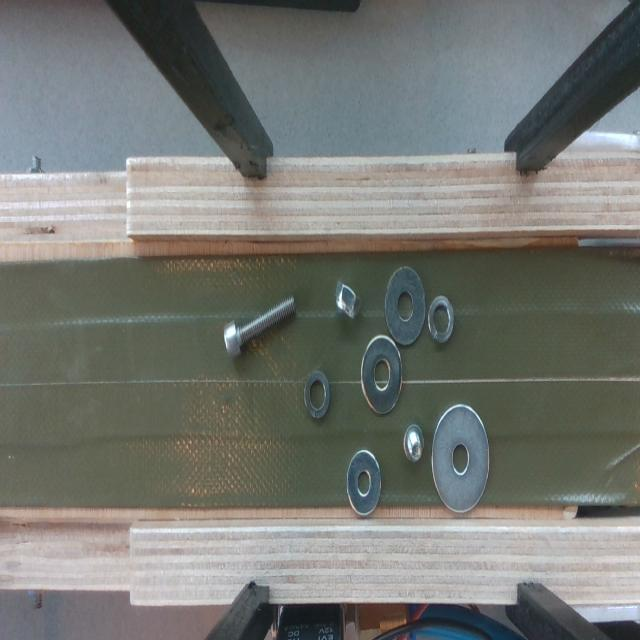Bolt: (217, 294, 300, 358), (402, 418, 429, 469)
Nut: (333, 277, 360, 329)
Washer: (432, 400, 494, 517), (357, 329, 408, 417), (382, 259, 427, 345), (346, 447, 387, 521), (424, 289, 461, 348), (302, 366, 334, 423)
